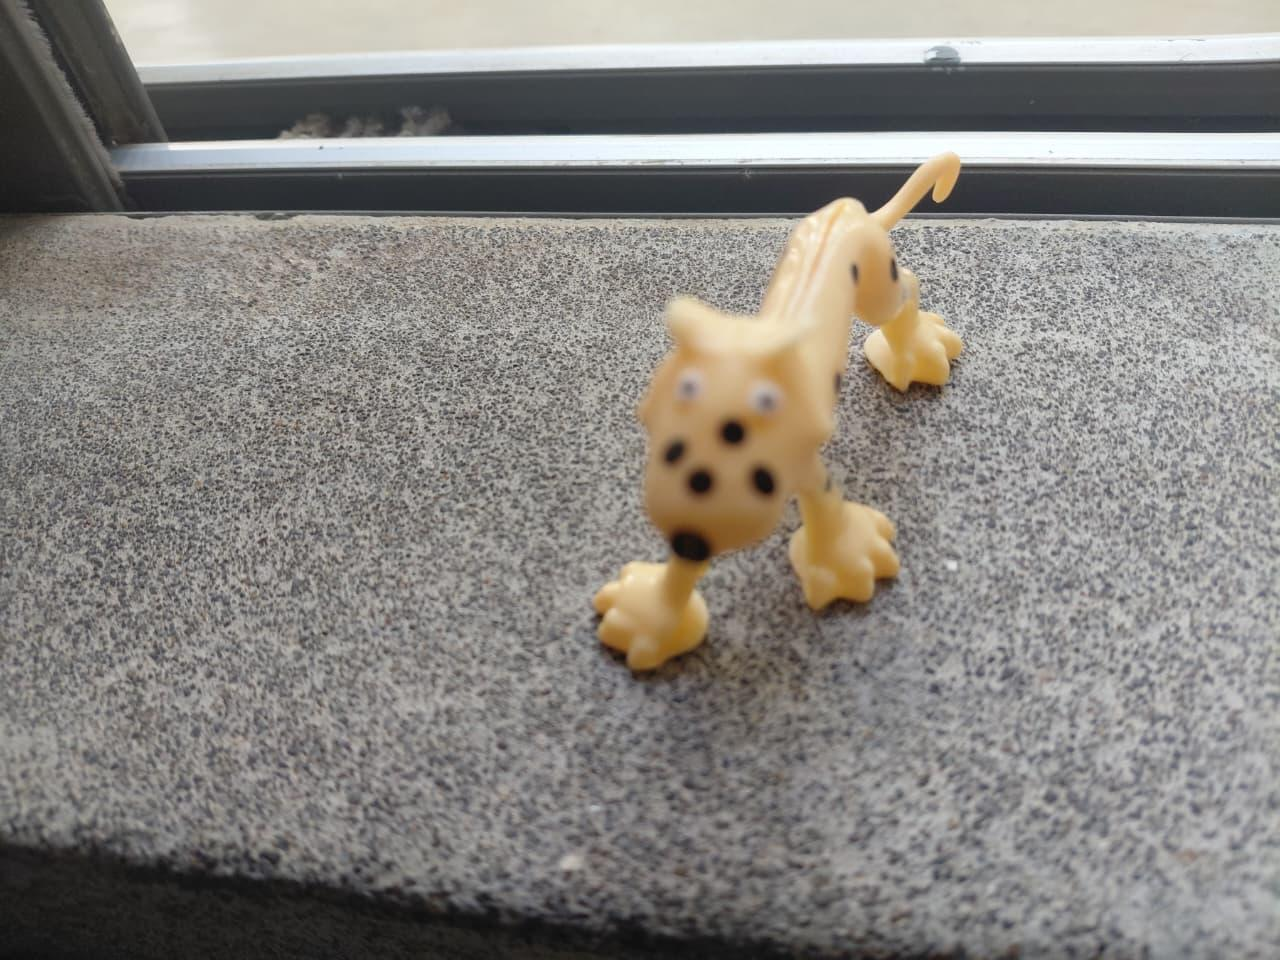cheetah: (574, 150, 1064, 692)
